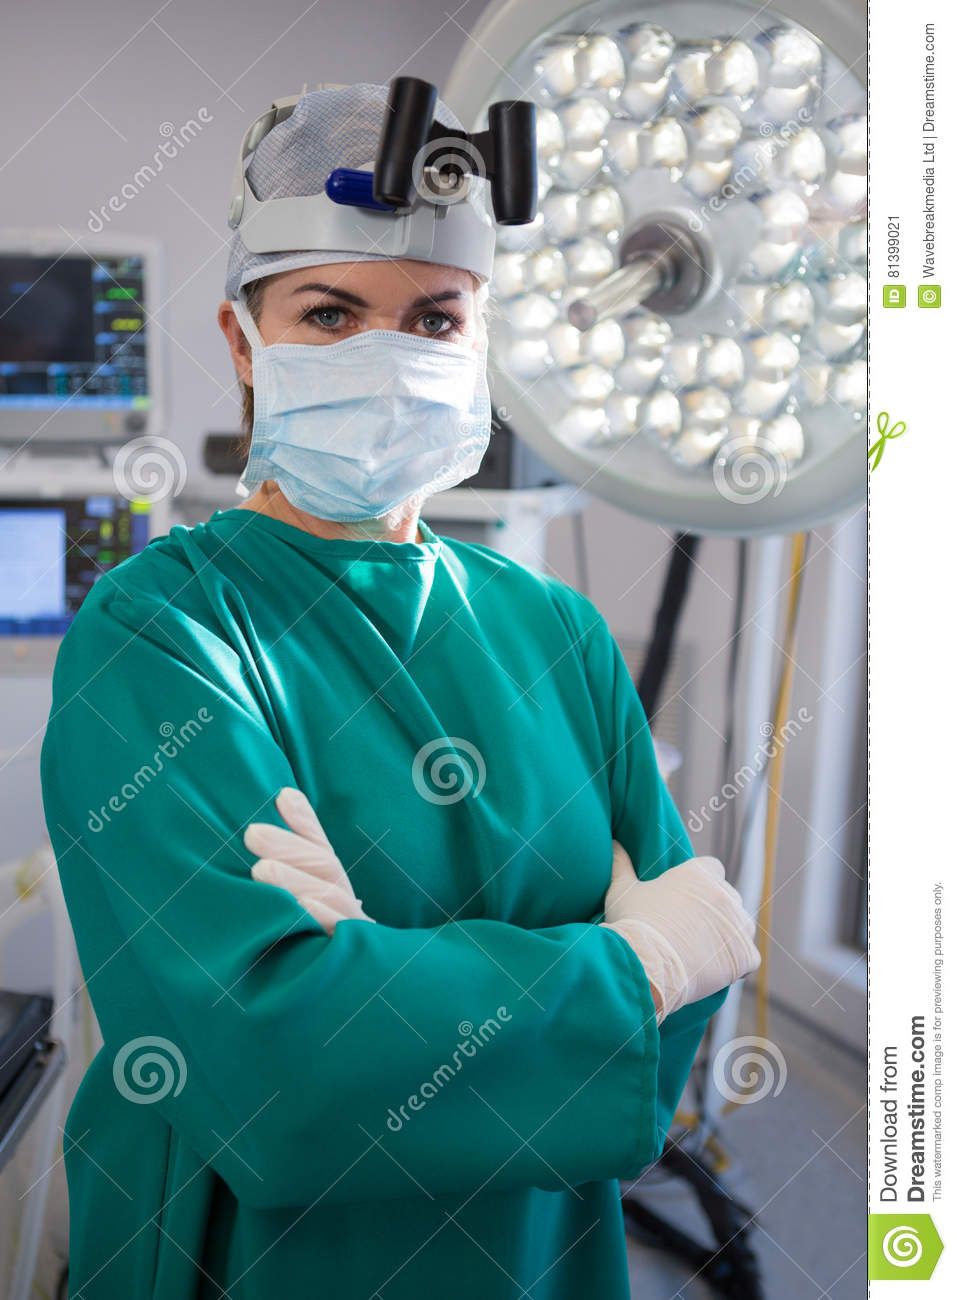mask: (248, 329, 508, 551)
